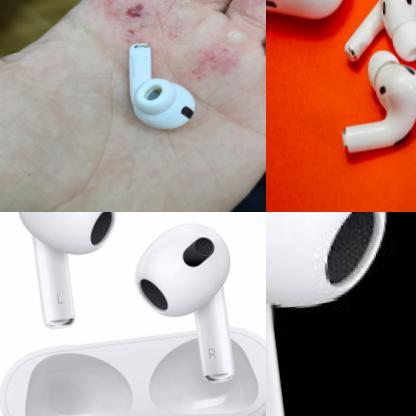Airpods: (266, 212, 416, 416), (129, 216, 254, 396), (103, 17, 201, 164), (13, 212, 129, 327), (331, 55, 416, 160), (329, 0, 416, 69)
